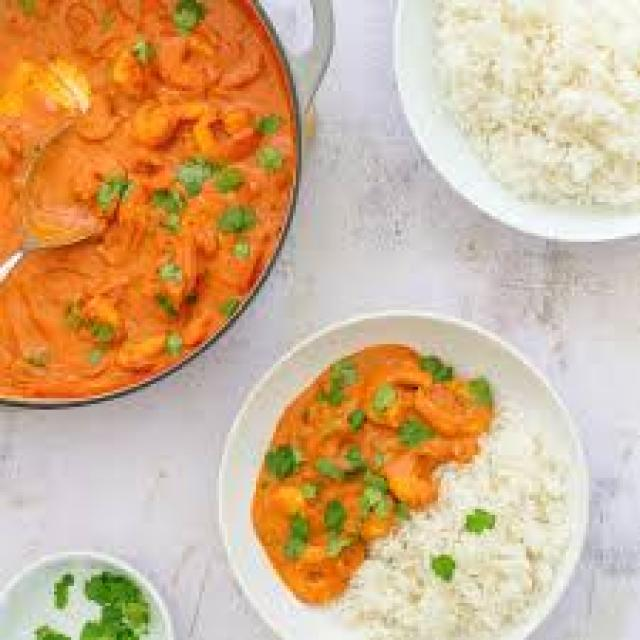RICE: (344, 417, 573, 637), (432, 6, 637, 213)
